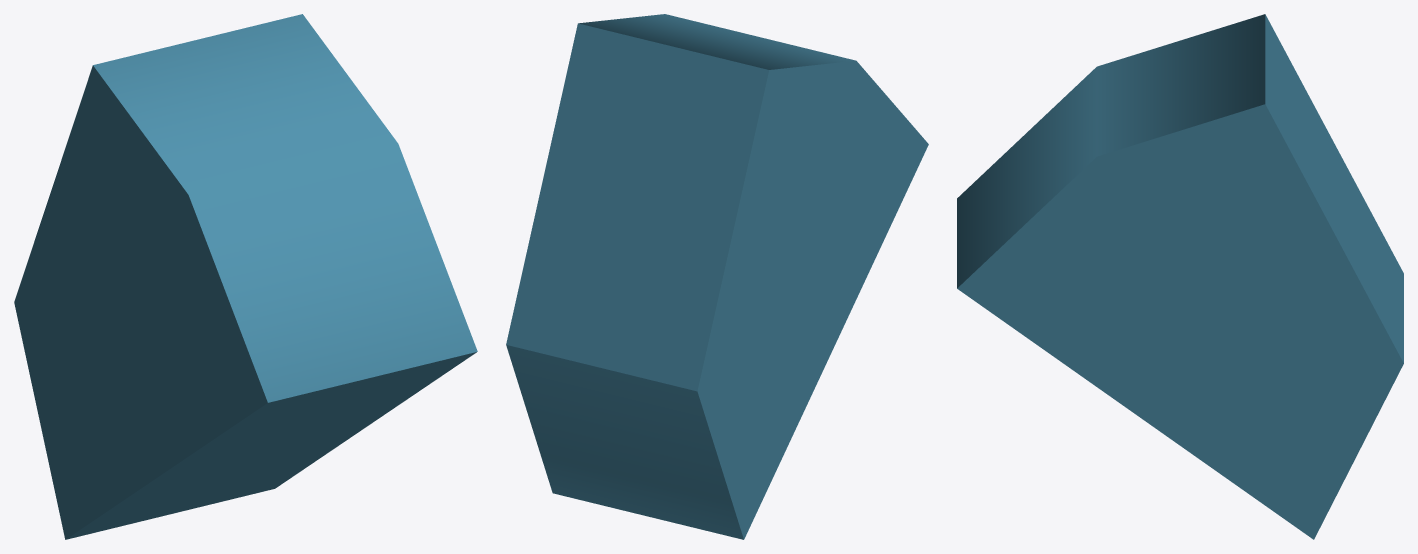
Rendered from NexusC_Trigger_26.fbx.
The picture shows the model from 3 angles, left to right: view 1: azimuth 30°, elevation 25°; view 2: azimuth 150°, elevation 25°; view 3: azimuth 270°, elevation 25°; orthographic projection. The views are drawn at different scales.
Parts seen in each view (by area): view 1: polySurface36; view 2: polySurface36; view 3: polySurface36.
Part boxes in pixels (x1,y1,x2,y2): polySurface36: [14, 14, 477, 539]; polySurface36: [506, 14, 928, 539]; polySurface36: [957, 14, 1403, 539].
Size of the model in its own units: 12.85 by 28.98 by 26.93.
